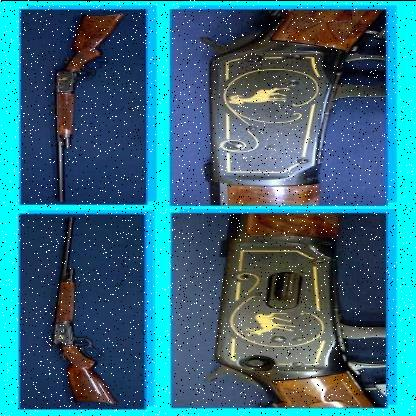rifle: (36, 0, 195, 201), (23, 213, 146, 414)
